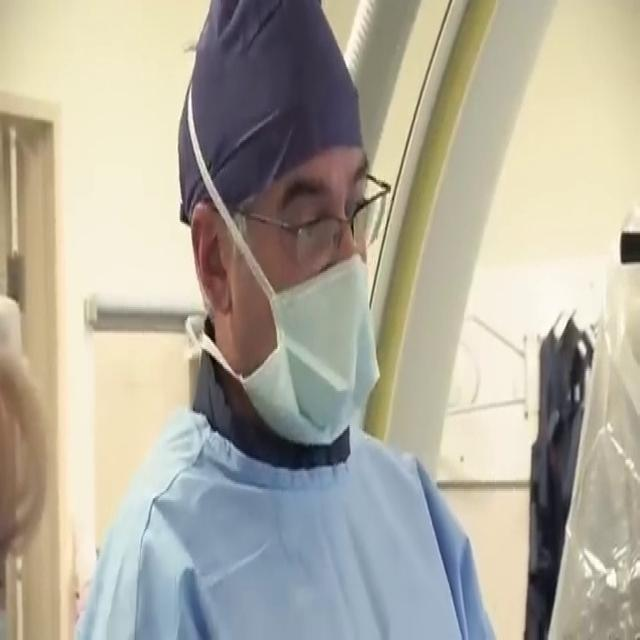doctor: (73, 0, 499, 638)
